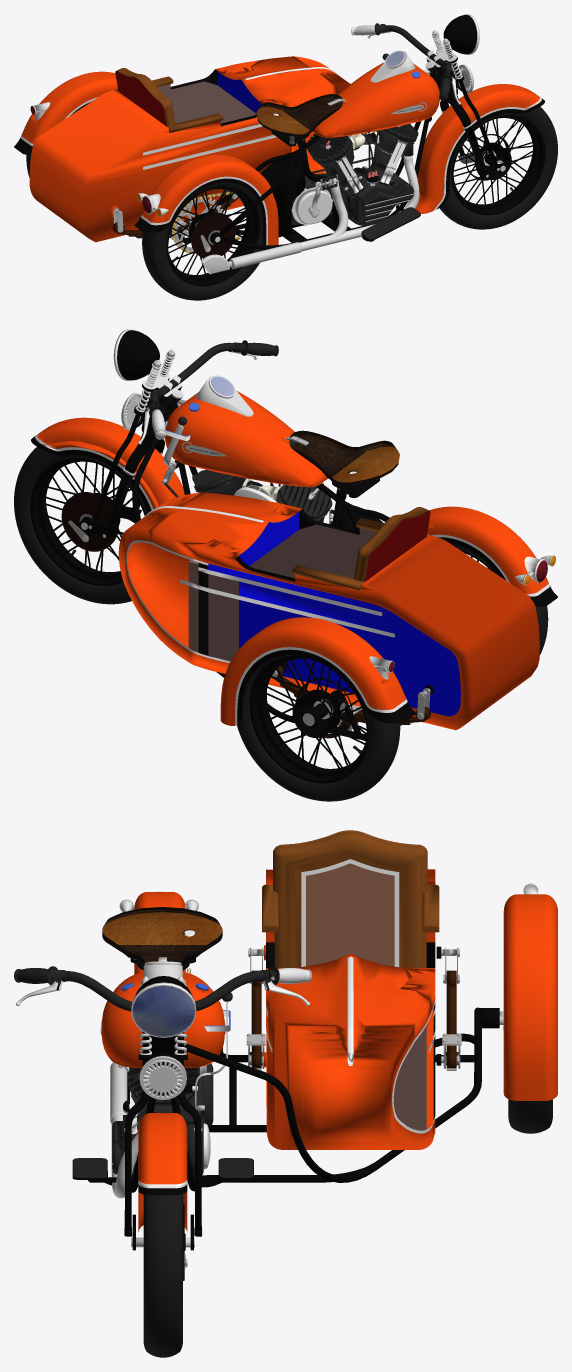
3 renders of one model, top to bottom at view 1: azimuth 30°, elevation 25°; view 2: azimuth 150°, elevation 25°; view 3: azimuth 270°, elevation 25°, orthographic. The views are drawn at different scales.
Parts seen in each view (by area): view 1: sidecar_45, Panhead_9, Norton Drum brake.002_49, Norton Drum brake.001_43, WL 45#2_16, Sketchup_0, Fender back#1_8, Fender back#2_52, Fender back#3_62, Harley seat (2)_55, FL Forks_2, Component#2_47 (+9 smaller); view 2: sidecar_45, Norton Drum brake_40, WL 45#2_16, Fender back#3_62, Norton Drum brake.002_49, Fender back#2_52, Fender back#1_8, Harley seat (2)_55, FL Forks_2, Panhead_9, Seat (3)_46, Sketchup_0 (+5 smaller); view 3: sidecar_45, Seat (3)_46, Fender back#3_62, Sketchup_0, Norton Drum brake.002_49, WL 45#2_16, Harley seat (2)_55, Fender back#1_8, Panhead_9, Handle bars with levers#1_39, FL Forks_2, Headlight_3 (+7 smaller).
Part boxes in pixels (<box>): sidecar_45: <box>29,56,350,242</box>; Panhead_9: <box>291,124,418,226</box>; Norton Drum brake.002_49: <box>439,106,557,229</box>; Norton Drum brake.001_43: <box>142,182,262,300</box>; WL 45#2_16: <box>312,51,439,137</box>; Sketchup_0: <box>111,69,431,268</box>; Fender back#1_8: <box>415,84,544,213</box>; Fender back#2_52: <box>134,154,278,250</box>; Fender back#3_62: <box>14,71,117,154</box>; Harley seat (2)_55: <box>256,94,348,147</box>; FL Forks_2: <box>425,30,506,178</box>; Component#2_47: <box>260,152,305,237</box>; sidecar_45: <box>118,492,539,730</box>; Norton Drum brake_40: <box>235,655,400,801</box>; WL 45#2_16: <box>164,375,327,487</box>; Fender back#3_62: <box>220,617,415,725</box>; Norton Drum brake.002_49: <box>14,447,147,604</box>; Fender back#2_52: <box>427,506,557,606</box>; Fender back#1_8: <box>31,417,184,512</box>; Harley seat (2)_55: <box>281,430,399,500</box>; FL Forks_2: <box>79,349,183,538</box>; Panhead_9: <box>161,469,332,522</box>; Seat (3)_46: <box>353,507,430,581</box>; Sketchup_0: <box>132,399,389,739</box>; sidecar_45: <box>262,869,439,1149</box>; Seat (3)_46: <box>273,830,427,1027</box>; Fender back#3_62: <box>503,894,557,1100</box>; Sketchup_0: <box>110,945,503,1198</box>; Norton Drum brake.002_49: <box>143,1194,185,1357</box>; WL 45#2_16: <box>101,964,230,1067</box>; Harley seat (2)_55: <box>102,907,222,970</box>; Fender back#1_8: <box>138,1113,187,1231</box>; Panhead_9: <box>112,1063,213,1176</box>; Handle bars with levers#1_39: <box>14,966,311,1011</box>; FL Forks_2: <box>124,976,202,1250</box>; Headlight_3: <box>131,976,196,1037</box>.
Bounding box in the file's own units: 3.9 × 1.83 × 2.6.
Materials: 42 (10 with a texture image).
